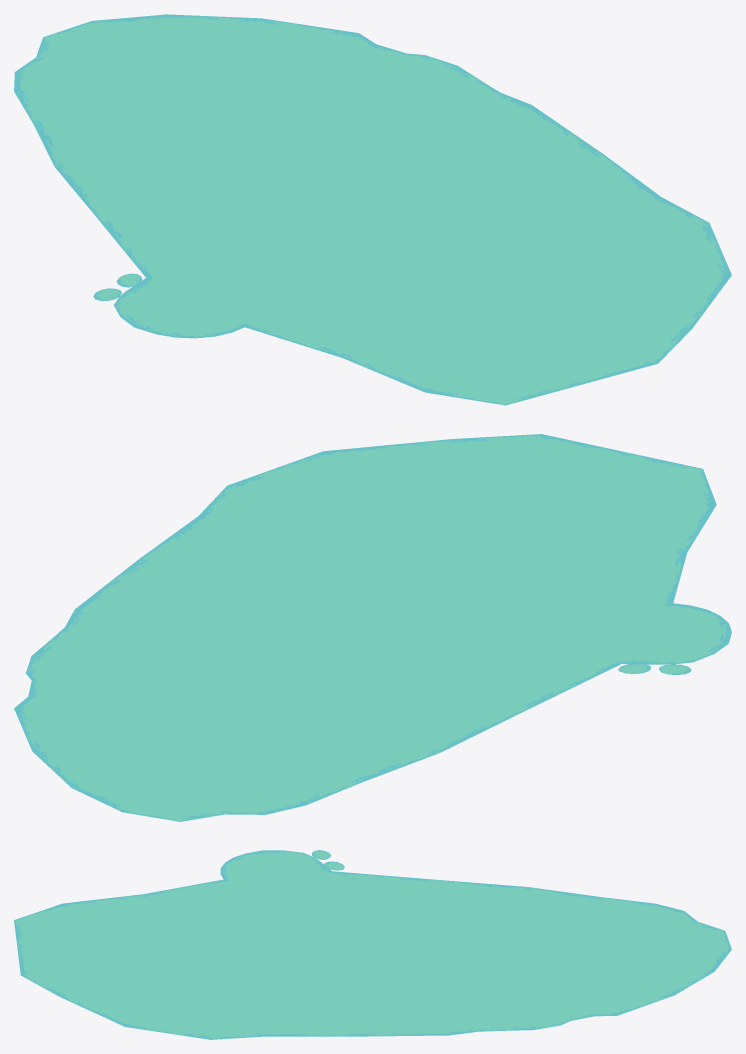
File: Mesh_Home_BH_Sea_03.fbx
3 renders of one model, top to bottom at view 1: azimuth 30°, elevation 25°; view 2: azimuth 150°, elevation 25°; view 3: azimuth 270°, elevation 25°, orthographic. The views are drawn at different scales.
Parts seen in each view (by area): view 1: Mesh_Home_BH_Sea_03; view 2: Mesh_Home_BH_Sea_03; view 3: Mesh_Home_BH_Sea_03.
Part boxes in pixels (box(x1,y1,x2,y2)): Mesh_Home_BH_Sea_03: box(14, 14, 731, 405); Mesh_Home_BH_Sea_03: box(14, 434, 731, 821); Mesh_Home_BH_Sea_03: box(14, 850, 731, 1039).
Bounding box in the file's own units: 5270 × 0.000122 × 8422.
1 material, 1 textured.
